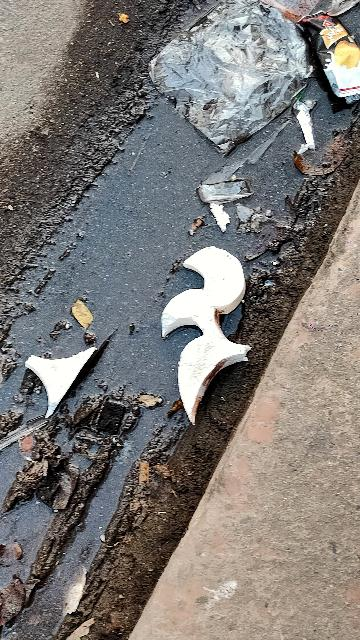cocksheet: (159, 239, 254, 421)
